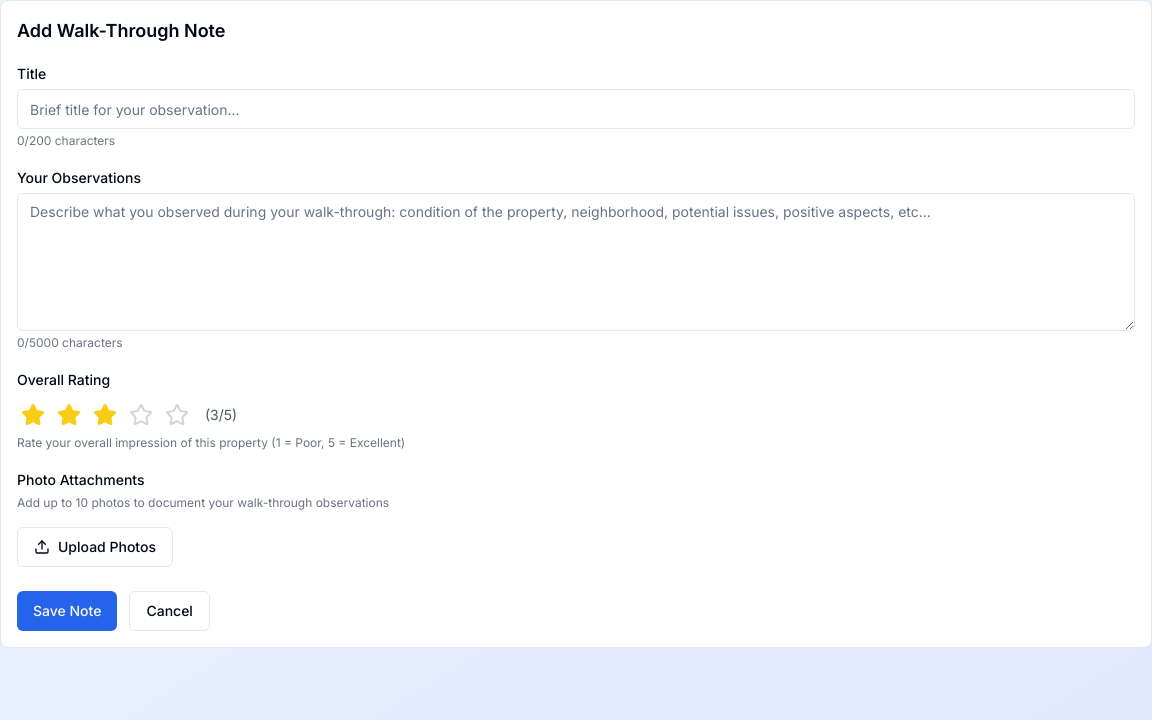
WalkThroughNoteForm with Photo Integration › handles form submission errors gracefully
Fill in valid form data
Type "Test Note" into the field labelled "Title" at (576, 109), box [17,89,1135,129]
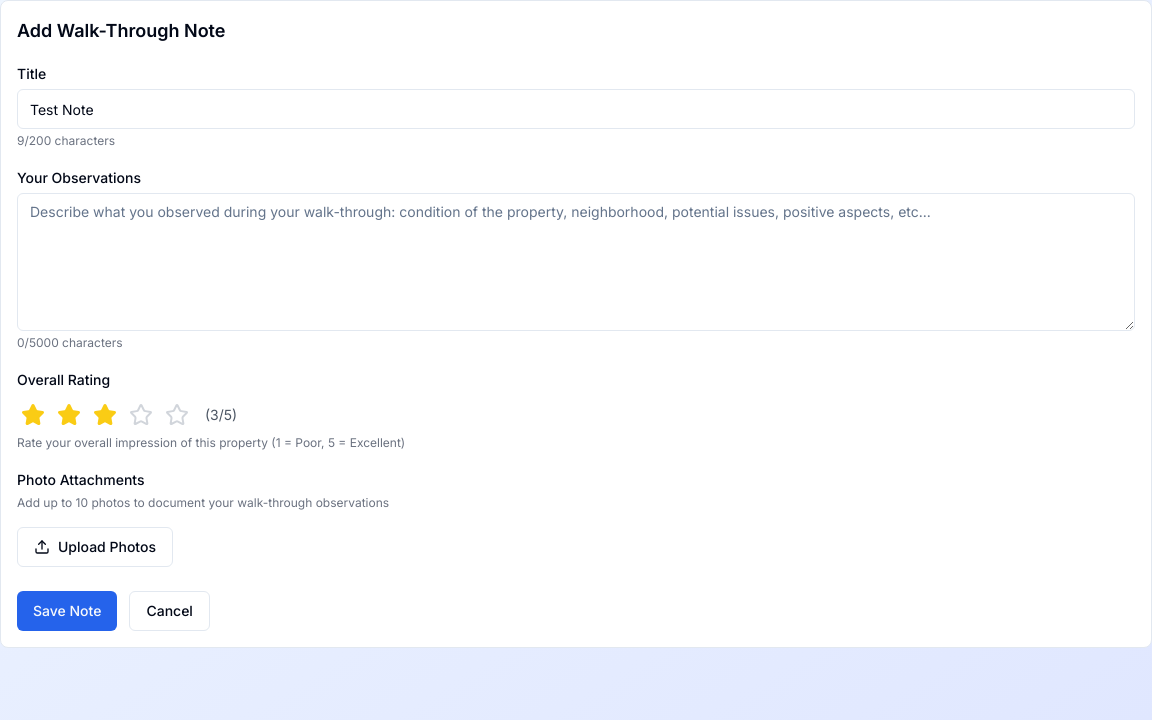
Replace the text in the text box labelled "Your Observations" with "Test content" at (576, 262), box [17,193,1135,331]
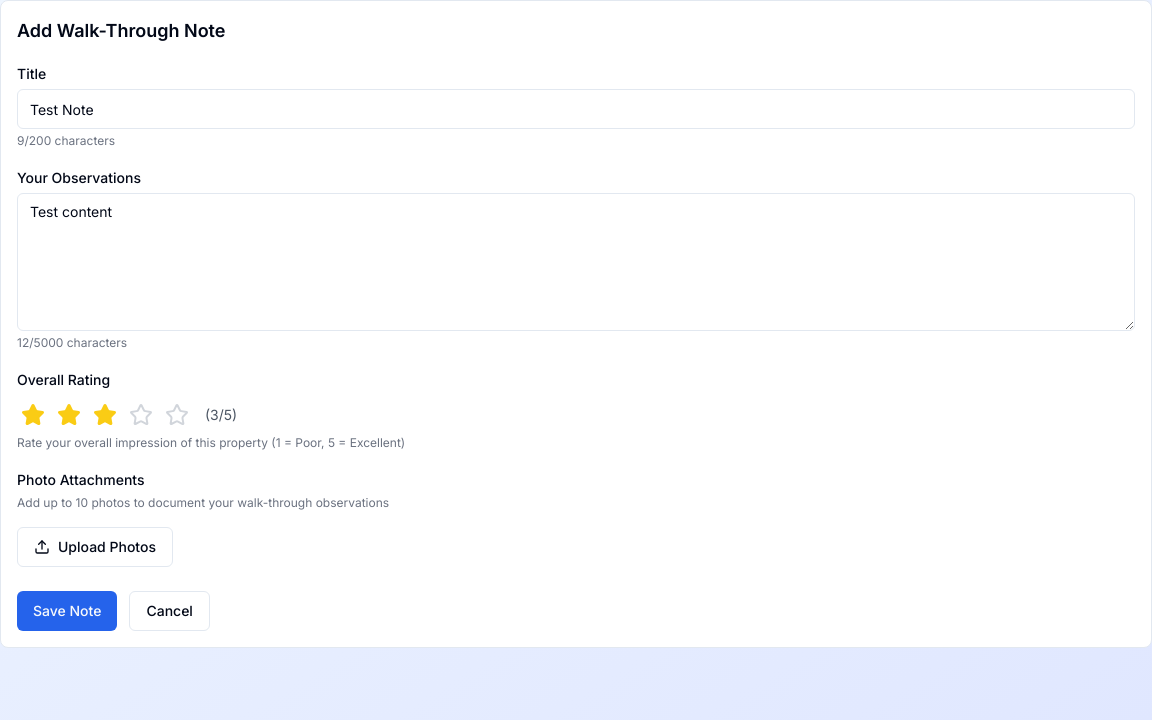
Submit form
Click the button "Save Note" at (67, 611), box [17,591,117,631]
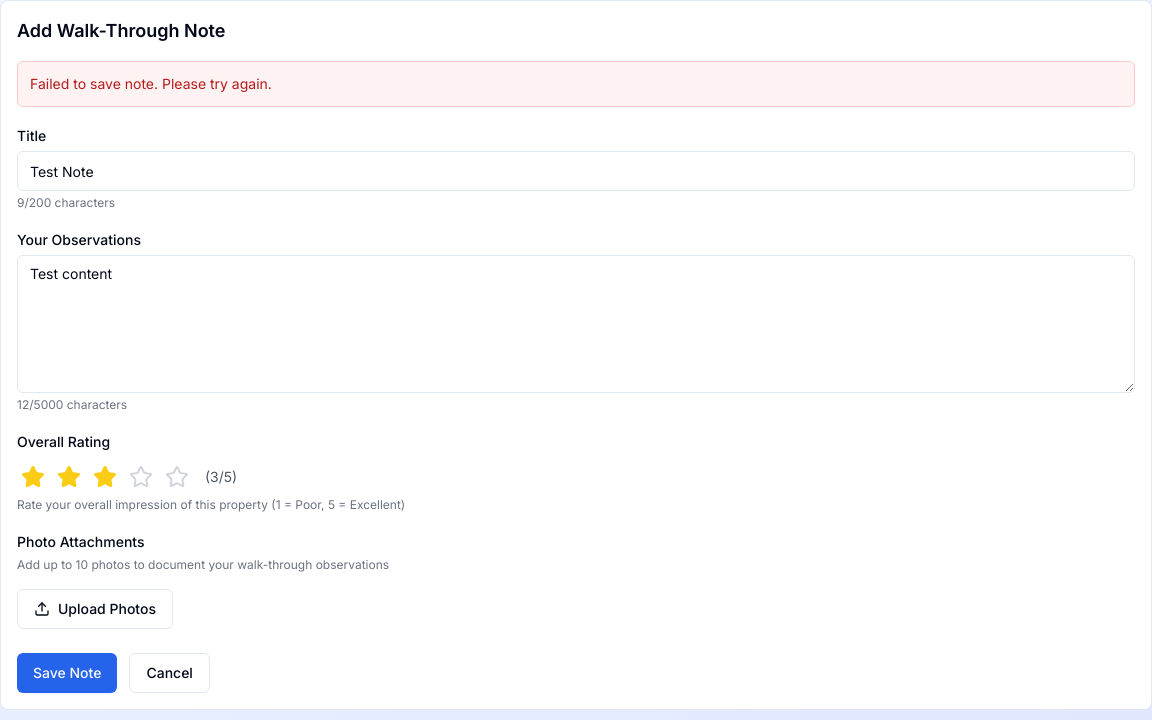
Expected: the text "Failed to save note. Please try again." is shown, [30,75,272,92]
